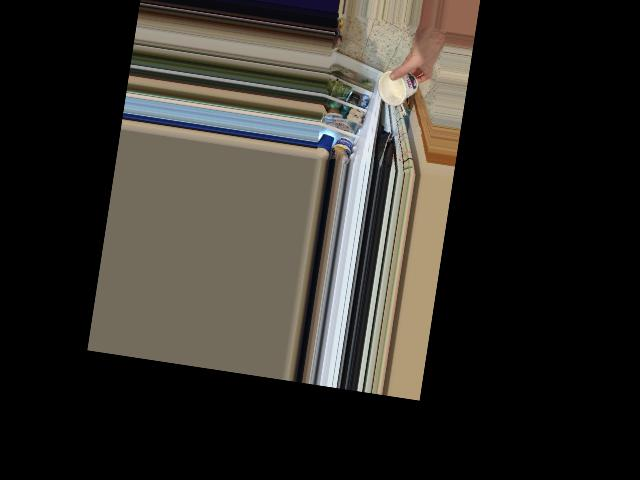cotage: (377, 66, 421, 108)
